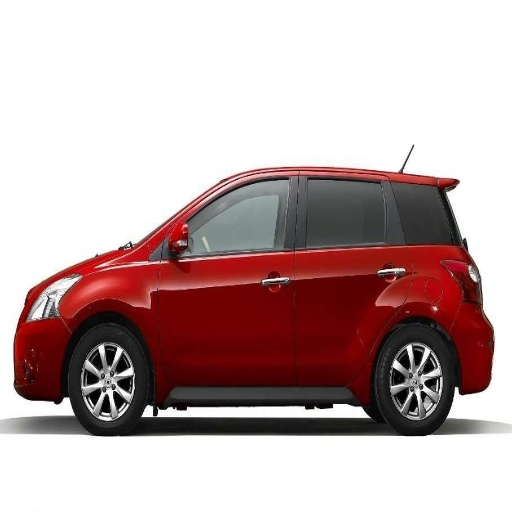back_left_door: (296, 170, 413, 378)
front_left_door: (158, 171, 300, 382)
